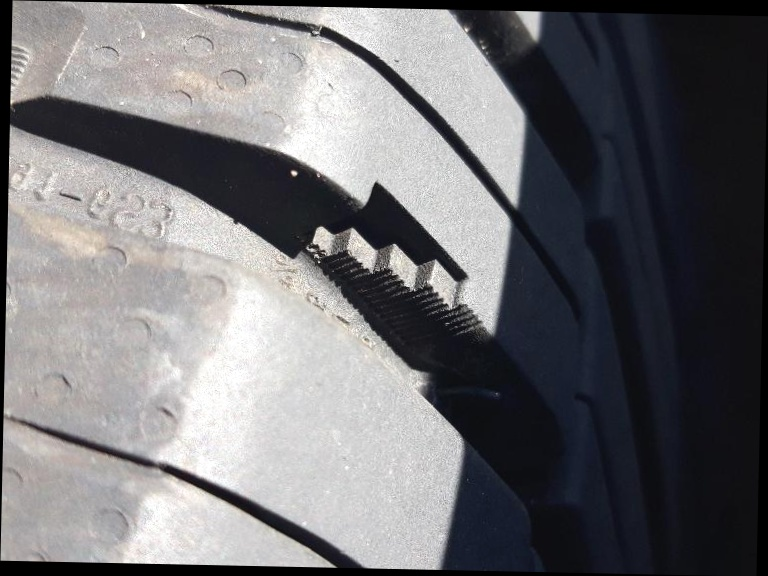temoin:90: (285, 171, 493, 370)
